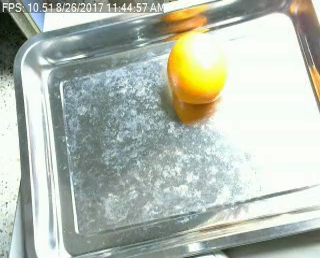Orange: (166, 30, 229, 104)
